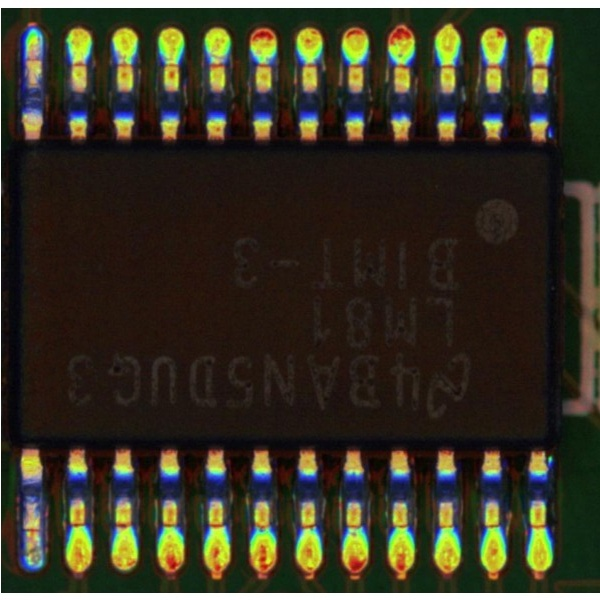Bad_podu: (26, 50, 39, 69), (24, 522, 37, 540)
